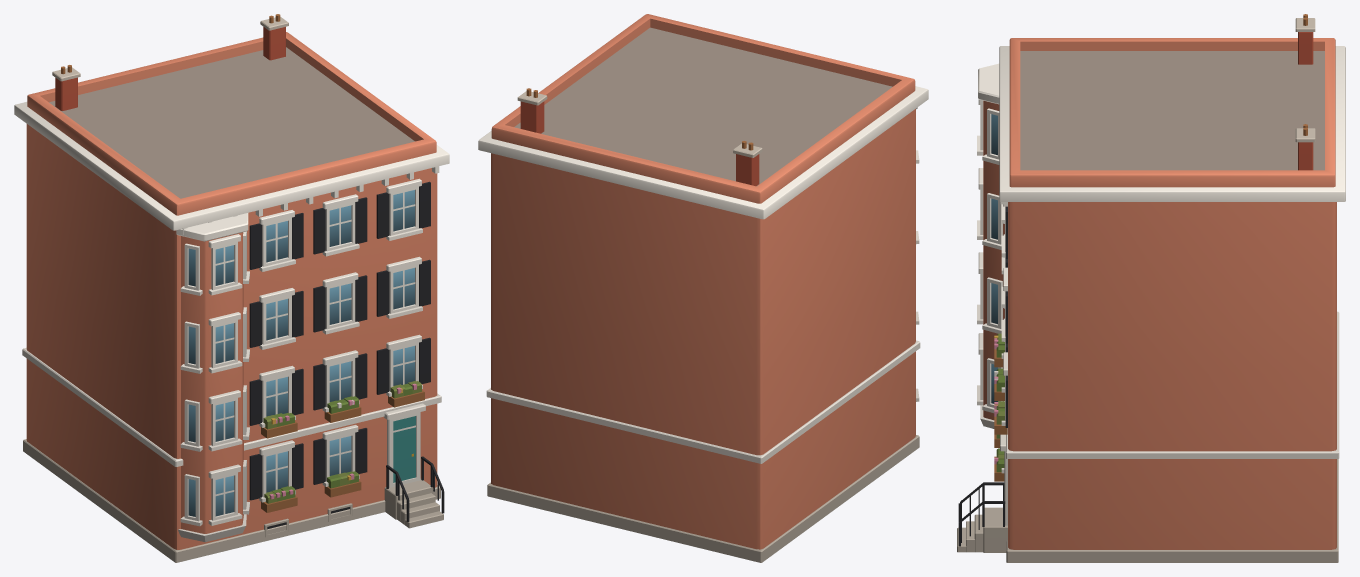
Rendered from tremont_n3.glb.
3 views of the same model, side by side, from view 1: azimuth 30°, elevation 25°; view 2: azimuth 150°, elevation 25°; view 3: azimuth 270°, elevation 25° (orthographic). The views are drawn at different scales.
Visible parts, largest first — view 1: tremont_n3; view 2: tremont_n3; view 3: tremont_n3.
Boxes of the visible parts, box(x1,y1,x2,y2) form: tremont_n3: box(14, 14, 449, 562); tremont_n3: box(478, 14, 928, 562); tremont_n3: box(957, 14, 1345, 562).
Bounding box in the file's own units: 12.64 × 16.94 × 14.18.
1 material, 1 textured.
